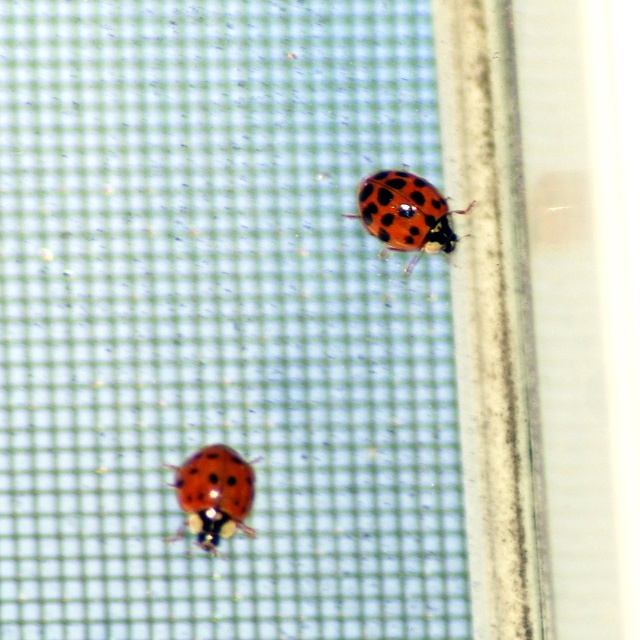Ladybug: (340, 160, 478, 272), (165, 444, 254, 554)
